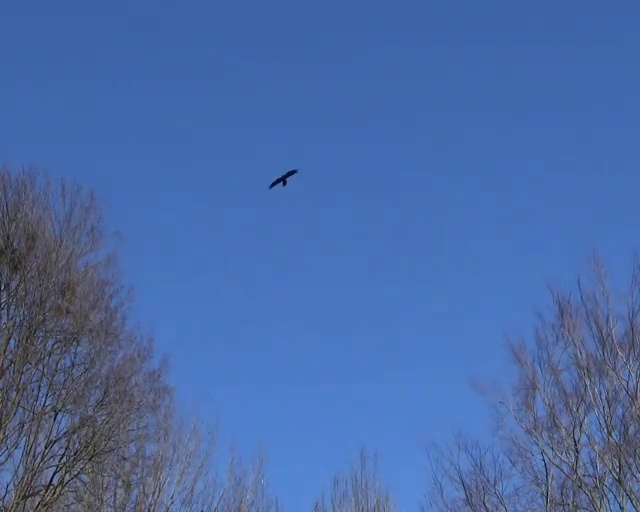BIRD: (269, 169, 298, 189)
